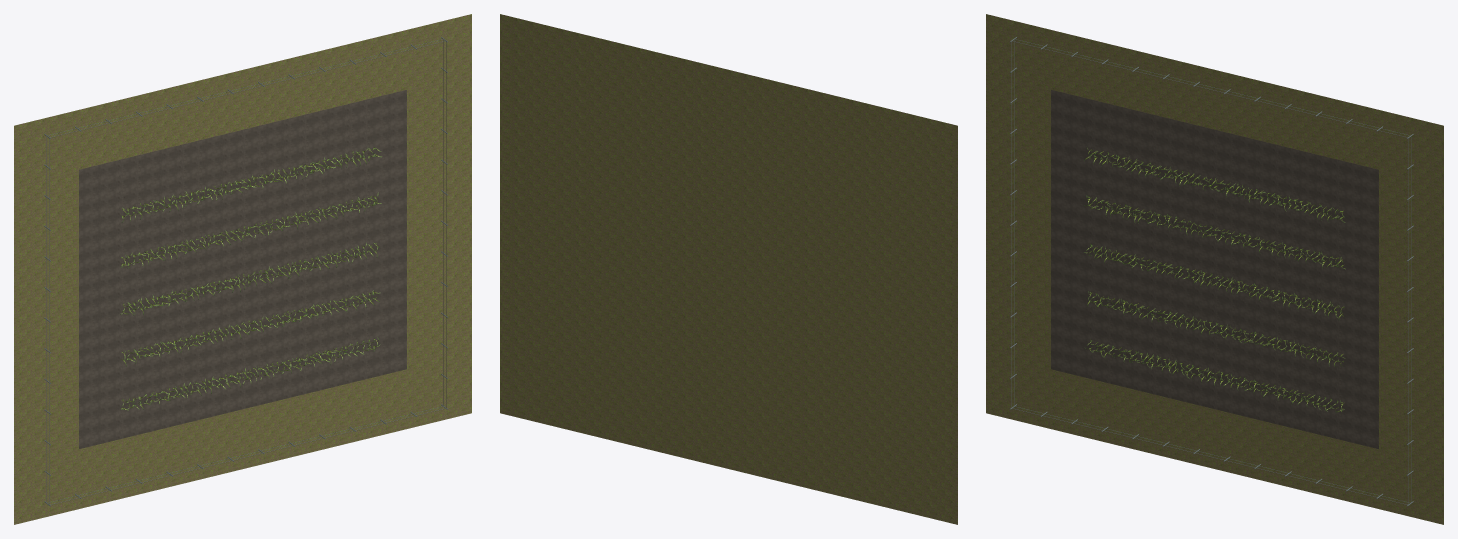
The picture shows the model from 3 angles, left to right: view 1: azimuth 30°, elevation 25°; view 2: azimuth 150°, elevation 25°; view 3: azimuth 330°, elevation 25°; orthographic projection.
Parts seen in each view (by area): view 1: Ground_collision_Plane.002, Cultivated_soil_collision_Plane.003; view 2: Ground_collision_Plane.002; view 3: Ground_collision_Plane.002, Cultivated_soil_collision_Plane.003.
Boxes of the visible parts, x1,y1,x2,y2 form: Ground_collision_Plane.002: [14, 14, 471, 524]; Cultivated_soil_collision_Plane.003: [79, 90, 406, 448]; Ground_collision_Plane.002: [500, 14, 957, 524]; Ground_collision_Plane.002: [986, 14, 1443, 524]; Cultivated_soil_collision_Plane.003: [1051, 90, 1378, 448].
Size of the model in its own units: 60 by 50 by 1.4.
Materials: 4 (3 with a texture image).
